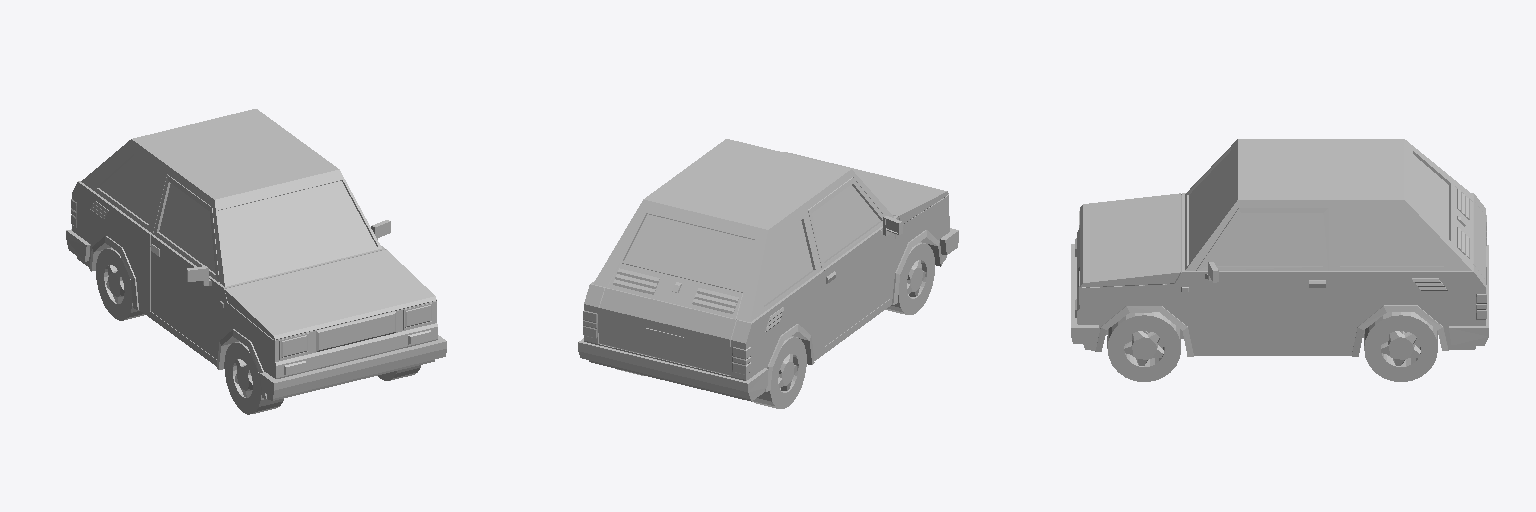
Rendered from 18_MICRO.obj.
3 renders of one model, left to right at view 1: azimuth 30°, elevation 25°; view 2: azimuth 150°, elevation 25°; view 3: azimuth 270°, elevation 25°, orthographic.
Parts seen in each view (by area): view 1: MICRO_CAR_Cube.157, WINDOWS.003_Cube.121, DOOR_L.007_Cube.156, GLASS.002_Cube.153, WHEEL_R1.001_Circle.101, WHEEL_R2.001_Circle.100; view 2: MICRO_CAR_Cube.157, WINDOWS.003_Cube.121, DOOR_L.007_Cube.156, GLASS.002_Cube.153, WHEEL_R2.001_Circle.100, WHEEL_R1.001_Circle.101; view 3: MICRO_CAR_Cube.157, DOOR_R.008_Cube.155, WINDOWS.003_Cube.121, GLASS.001_Cube.154, WHEEL_L1.001_Circle.144, WHEEL_L2.001_Circle.145.
Boxes of the visible parts, <box> form: MICRO_CAR_Cube.157: <box>66,109,446,400</box>; WINDOWS.003_Cube.121: <box>99,155,376,282</box>; DOOR_L.007_Cube.156: <box>150,175,219,358</box>; GLASS.002_Cube.153: <box>159,184,215,273</box>; WHEEL_R1.001_Circle.101: <box>224,341,283,414</box>; WHEEL_R2.001_Circle.100: <box>96,247,144,320</box>; MICRO_CAR_Cube.157: <box>578,139,958,401</box>; WINDOWS.003_Cube.121: <box>624,214,812,304</box>; DOOR_L.007_Cube.156: <box>808,177,902,345</box>; GLASS.002_Cube.153: <box>812,184,880,261</box>; WHEEL_R2.001_Circle.100: <box>752,336,806,408</box>; WHEEL_R1.001_Circle.101: <box>886,242,934,314</box>; MICRO_CAR_Cube.157: <box>1071,139,1488,356</box>; DOOR_R.008_Cube.155: <box>1196,208,1328,348</box>; WINDOWS.003_Cube.121: <box>1189,151,1448,265</box>; GLASS.001_Cube.154: <box>1205,213,1322,266</box>; WHEEL_L1.001_Circle.144: <box>1107,312,1180,381</box>; WHEEL_L2.001_Circle.145: <box>1364,312,1437,381</box>.
Bounding box in the file's own units: 1.69 × 1.38 × 3.02.